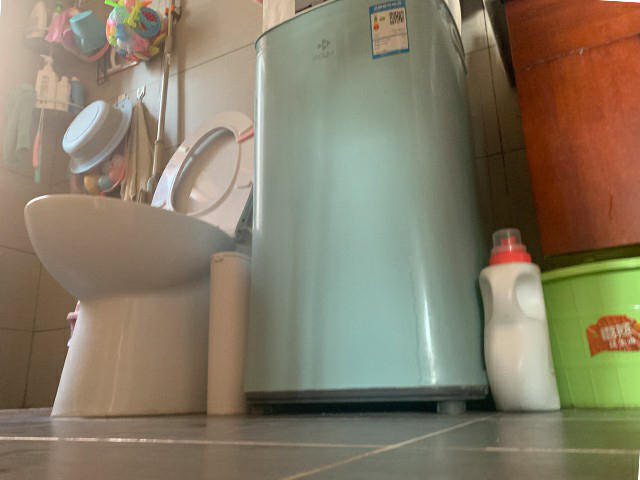closestool: (23, 110, 256, 418)
